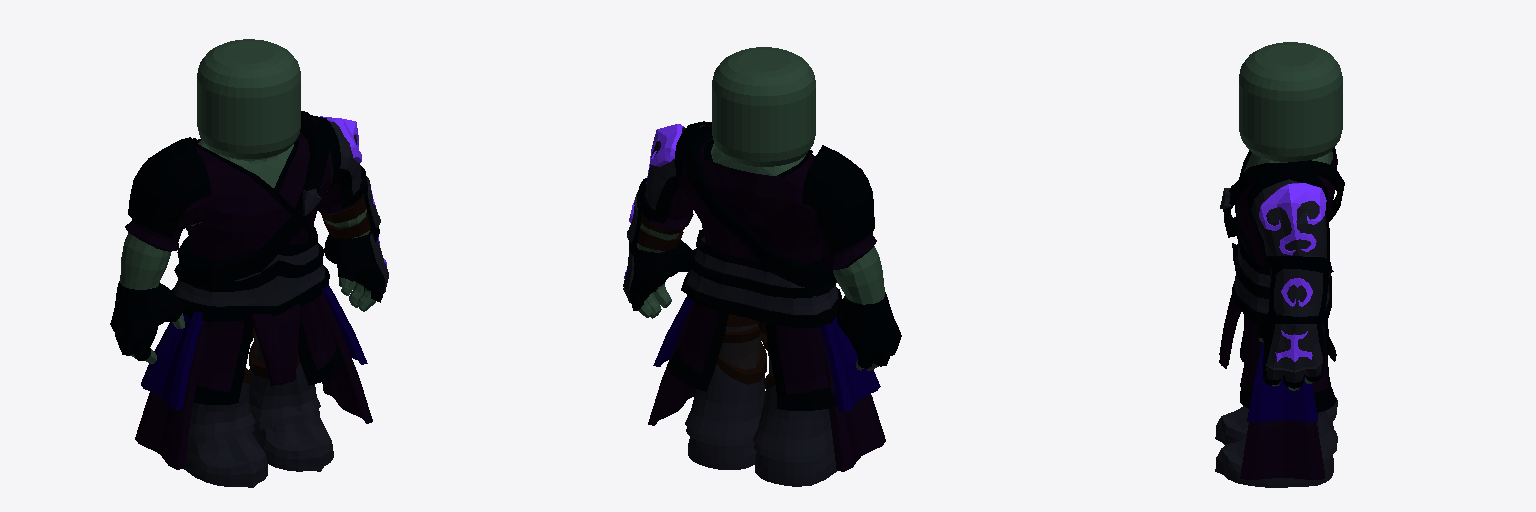
The model's file is enemy4.obj.
The picture shows the model from 3 angles: view 1: azimuth 30°, elevation 25°; view 2: azimuth 150°, elevation 25°; view 3: azimuth 270°, elevation 25°; orthographic projection.
Visible parts, largest first — view 1: Head1, Meshesrobetop1, Meshpart34, Meshpart2, Meshpart19, Meshpart29, Meshpart15, Meshpart16, Meshpart22, Meshpart21, Meshpart10, Meshpart5 (+21 smaller); view 2: Head1, Meshesrobetop1, Meshpart34, Meshpart21, Meshpart2, Meshpart18, Meshpart19, Meshpart15, Meshpart12, Meshpart16, Meshpart5, Meshpart9 (+23 smaller); view 3: Head1, Meshpart8, MeshesmageShoulder11, Meshpart1, Meshpart20, MeshesmageShoulder31, Meshpart2, Meshpart22, Meshpart33, MeshesmageShoulder21, Meshpart17, Meshpart26 (+8 smaller).
Part boxes in pixels (bbox=[...]): Head1: bbox=[197, 39, 300, 160]; Meshesrobetop1: bbox=[186, 132, 330, 260]; Meshpart34: bbox=[128, 137, 210, 237]; Meshpart2: bbox=[177, 111, 329, 286]; Meshpart19: bbox=[110, 281, 183, 360]; Meshpart29: bbox=[184, 432, 267, 487]; Meshpart15: bbox=[135, 321, 205, 469]; Meshpart16: bbox=[141, 311, 202, 409]; Meshpart22: bbox=[252, 415, 333, 471]; Meshpart21: bbox=[249, 363, 320, 429]; Meshpart10: bbox=[250, 303, 299, 386]; Meshpart5: bbox=[174, 265, 324, 306]; Head1: bbox=[712, 47, 815, 167]; Meshesrobetop1: bbox=[677, 138, 823, 264]; Meshpart34: bbox=[802, 145, 874, 254]; Meshpart21: bbox=[685, 364, 764, 445]; Meshpart2: bbox=[680, 123, 836, 288]; Meshpart18: bbox=[753, 385, 832, 462]; Meshpart19: bbox=[837, 292, 901, 368]; Meshpart15: bbox=[821, 337, 885, 471]; Meshpart12: bbox=[776, 325, 828, 394]; Meshpart16: bbox=[819, 316, 880, 411]; Meshpart5: bbox=[686, 269, 837, 314]; Meshpart9: bbox=[626, 240, 692, 310]; Head1: bbox=[1239, 42, 1342, 162]; Meshpart8: bbox=[1240, 420, 1324, 479]; MeshesmageShoulder11: bbox=[1251, 179, 1326, 257]; Meshpart1: bbox=[1247, 342, 1317, 422]; Meshpart20: bbox=[1266, 324, 1322, 382]; MeshesmageShoulder31: bbox=[1259, 183, 1326, 255]; Meshpart2: bbox=[1223, 160, 1344, 237]; Meshpart22: bbox=[1215, 437, 1333, 487]; Meshpart33: bbox=[1274, 269, 1322, 316]; MeshesmageShoulder21: bbox=[1247, 163, 1331, 269]; Meshpart17: bbox=[1269, 256, 1328, 323]; Meshpart26: bbox=[1242, 316, 1329, 391].
Bounding box in the file's own units: 3.54 × 5.08 × 1.5.